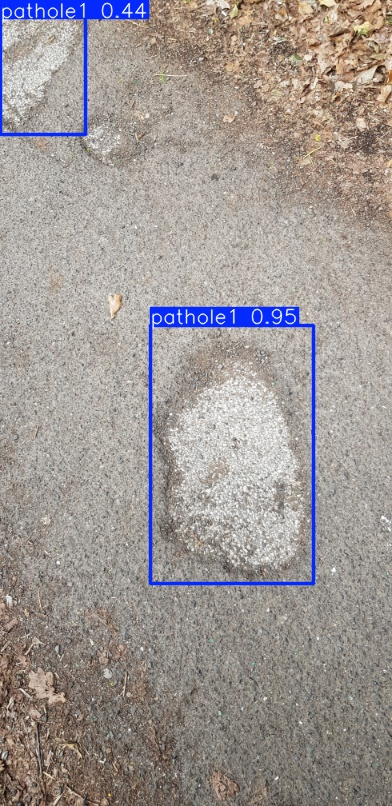pothole: (147, 331, 313, 574), (0, 1, 91, 136), (76, 111, 148, 170)
